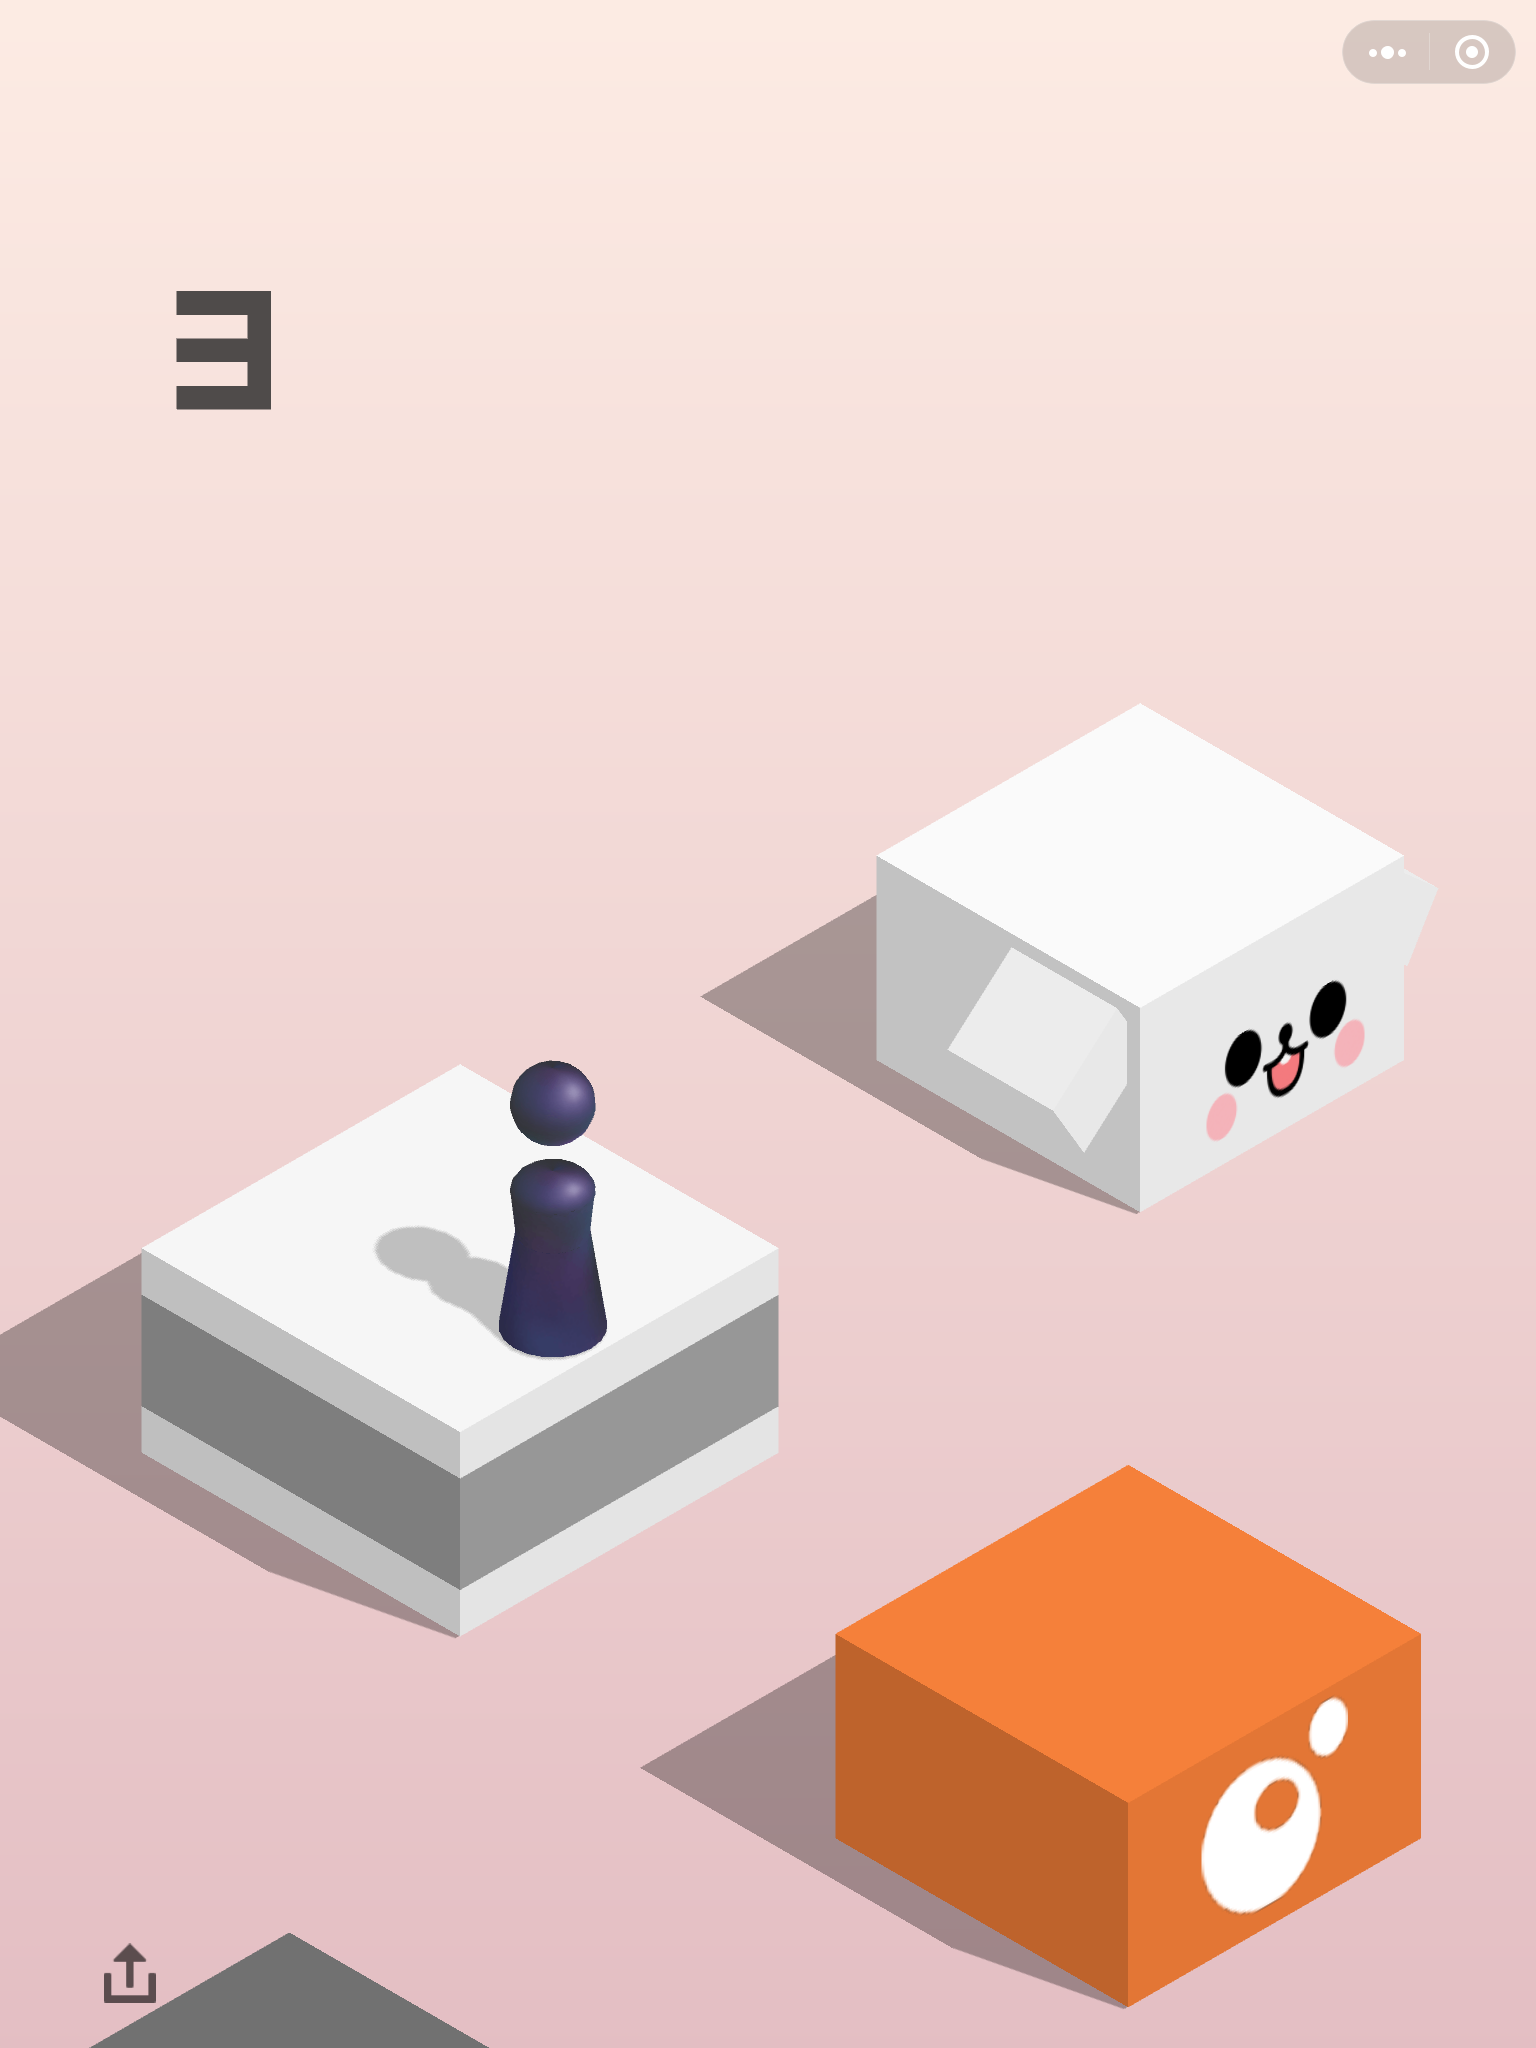f: (132, 1056, 784, 1646), (828, 1463, 1425, 2009), (871, 697, 1441, 1218)
r: (494, 1056, 611, 1361)
